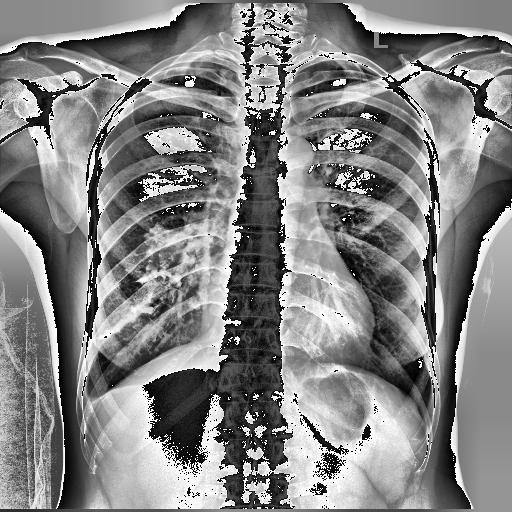10- Pleural effusion: (78, 388, 108, 417), (81, 387, 96, 412)
11- Pleural thickening: (94, 219, 208, 341), (78, 388, 108, 417), (81, 387, 96, 412)
2- Calcification: (93, 184, 218, 340)
9- Other lesion: (93, 184, 218, 340), (96, 222, 212, 344)
